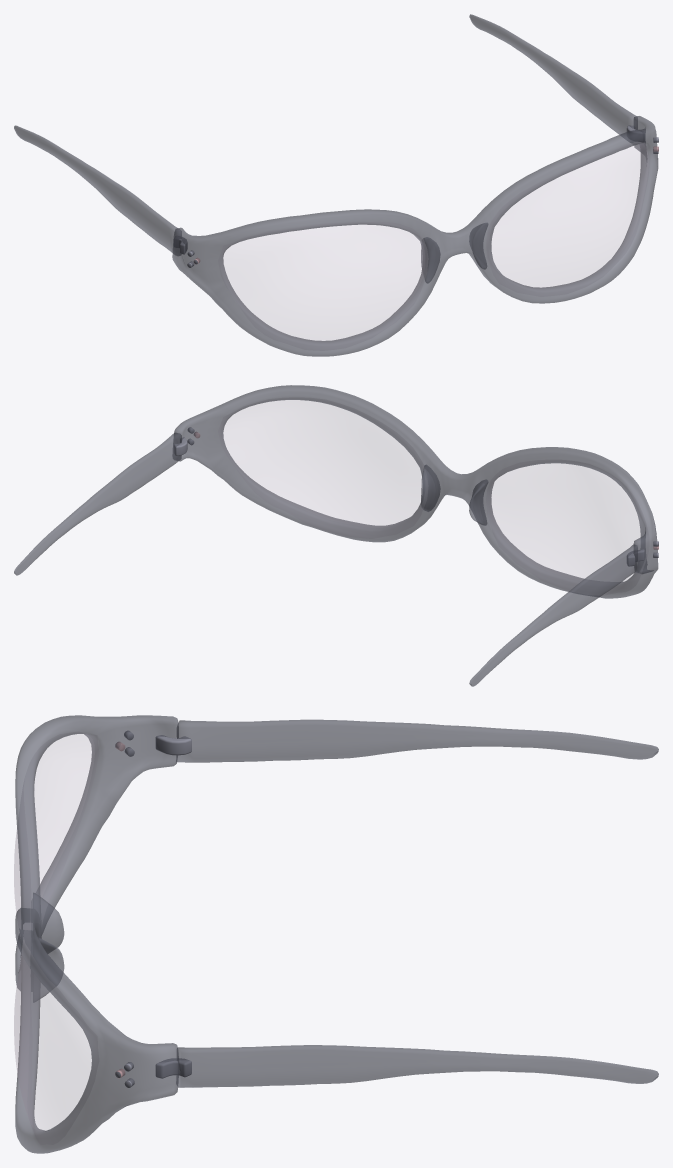
3 renders of one model, top to bottom at view 1: azimuth 30°, elevation 25°; view 2: azimuth 150°, elevation 25°; view 3: azimuth 270°, elevation 25°, orthographic. The views are drawn at different scales.
Parts seen in each view (by area): view 1: model 3.002; view 2: model 3.002; view 3: model 3.002.
Boxes of the visible parts, bbox=[...] form: model 3.002: bbox=[14, 14, 658, 356]; model 3.002: bbox=[14, 385, 658, 686]; model 3.002: bbox=[14, 715, 658, 1153].
Size of the model in its own units: 3.39 by 0.9691 by 2.72.
